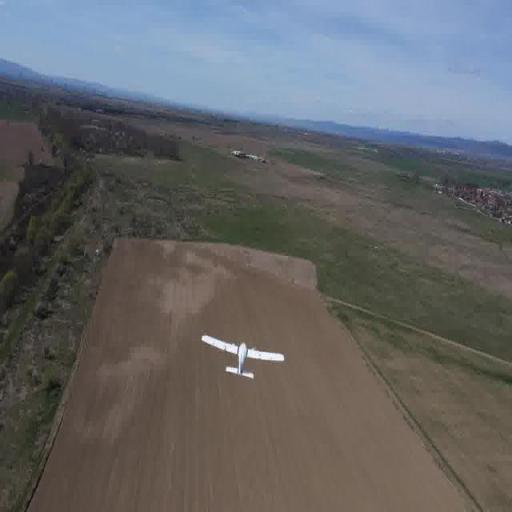uav: (197, 324, 294, 394)
